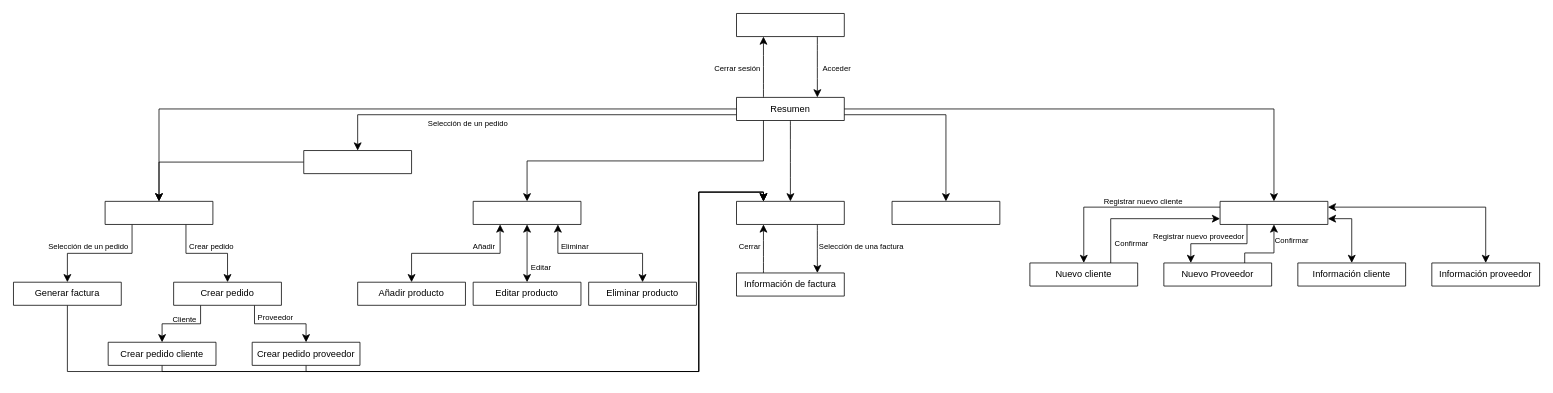
Image size: 1553x393. Some labels were removed from this diagram. Here are the shapes that lost their labels. From the top down, the centre of each, then its label:
the point at 790,25: Iniciar sesión
the point at 357,162: Gestionar
the point at 158,212: Pedidos
the point at 526,212: Almacén
the point at 790,212: Facturas
the point at 945,212: Análisis
the point at 1273,212: Registro
